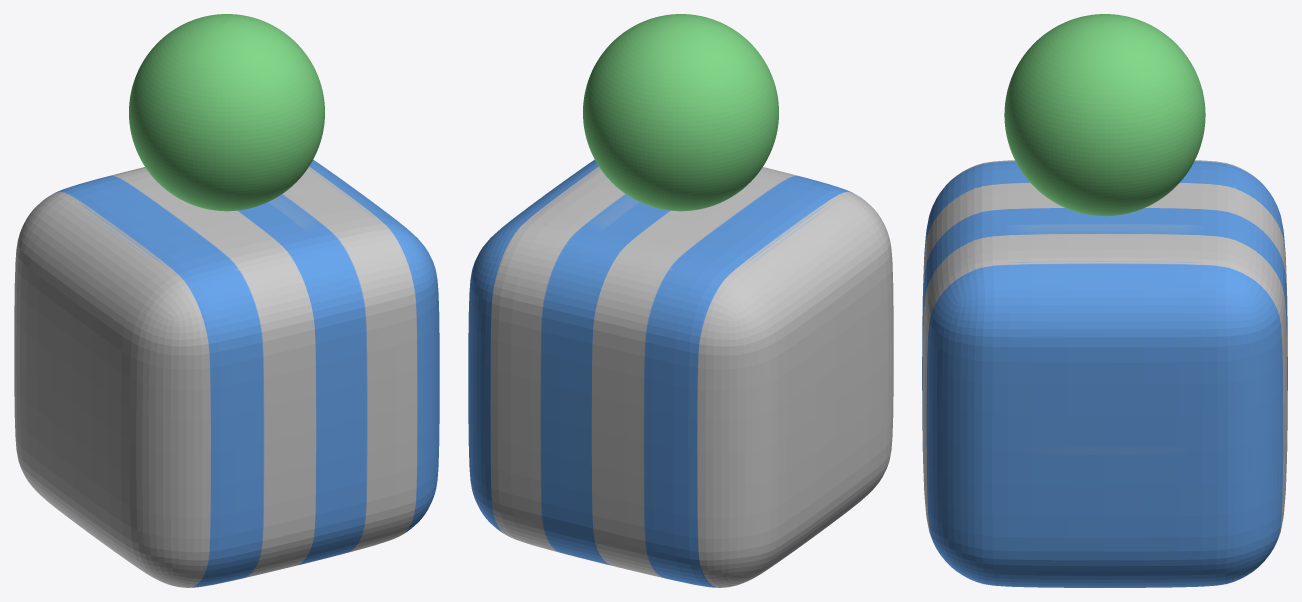
Rendered from BOD3_BMC1_BCC13_BPT1_FRC0_HEA0_HMC13_HCC0_HPT0_ELT0_ERT0_ELL0_ERL0_AP0_AAL0_AAR0_BEK0.fbx.
3 renders of one model, left to right at view 1: azimuth 30°, elevation 25°; view 2: azimuth 150°, elevation 25°; view 3: azimuth 270°, elevation 25°, orthographic. The views are drawn at different scales.
Visible parts, largest first — view 1: Body, Head; view 2: Body, Head; view 3: Body, Head.
Part boxes in pixels (x1,y1,x2,y2): Body: (14,159,439,587); Head: (129,14,324,211); Body: (468,159,893,587); Head: (583,14,778,211); Body: (922,160,1287,587); Head: (1004,14,1205,216).
Bounding box in the file's own units: 89.79 × 140 × 89.79.
2 materials, 2 textured.
